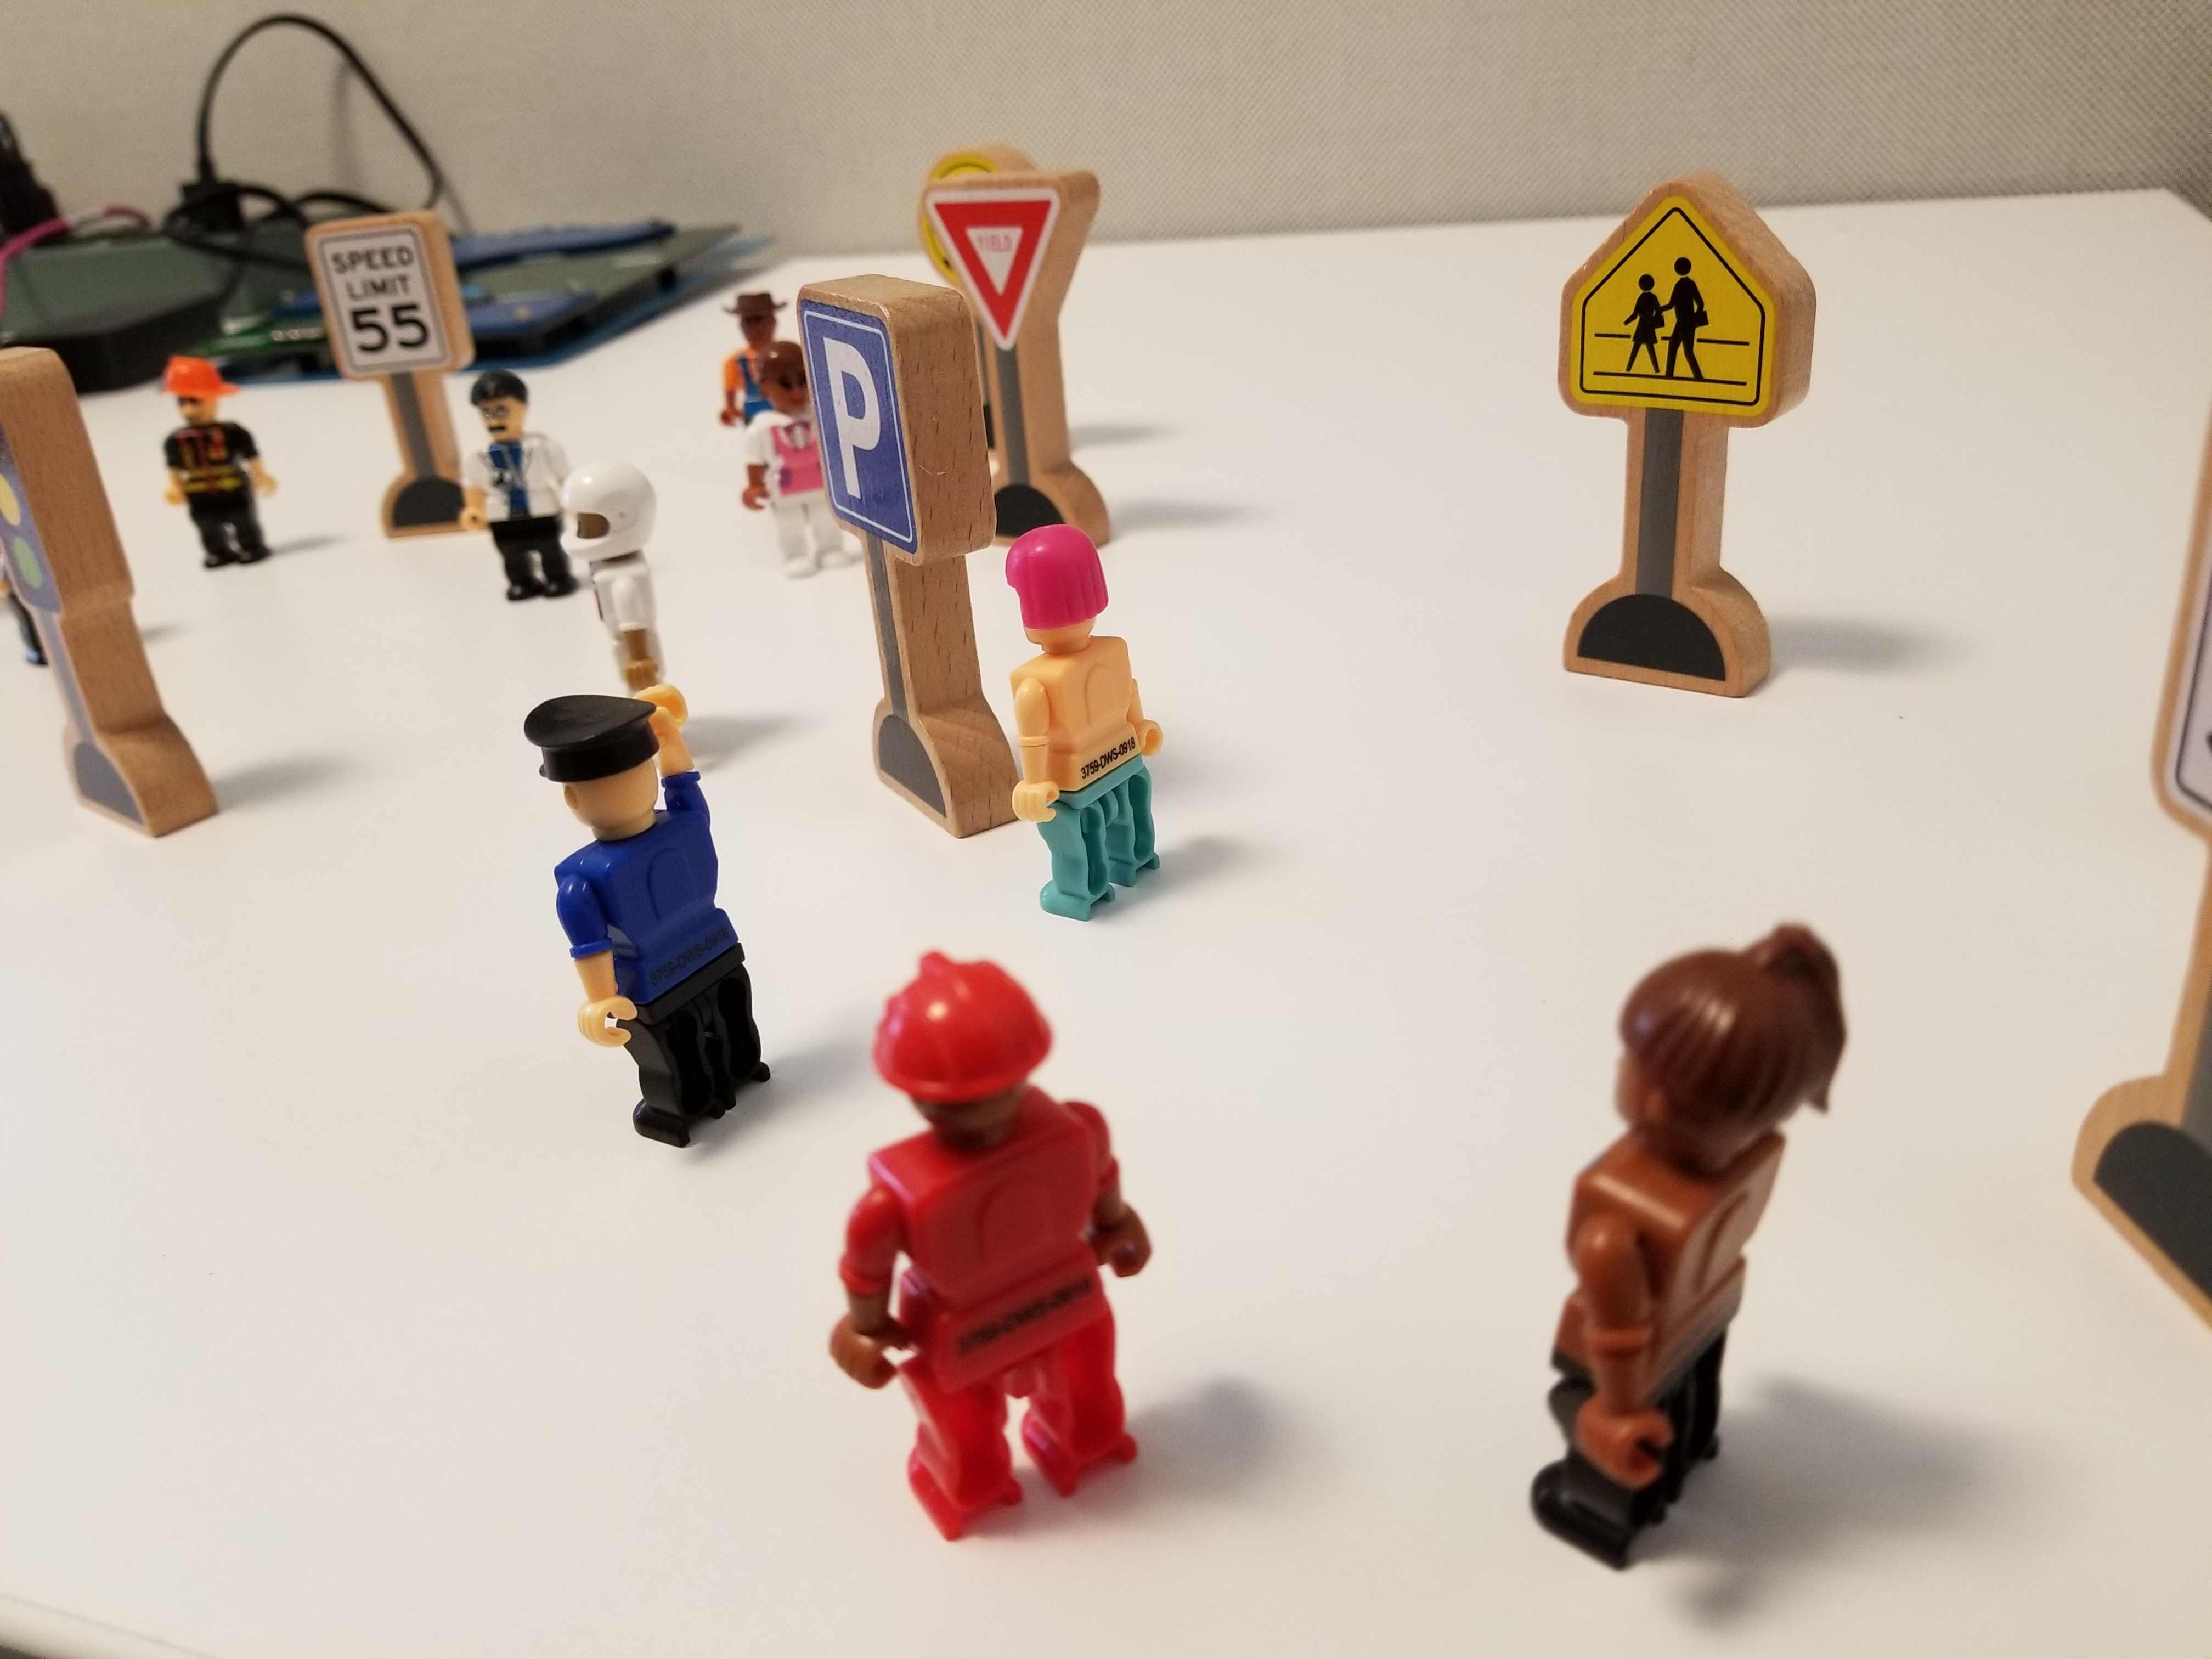Parking: (782, 269, 997, 594)
Pedestrian crossing: (1548, 157, 1849, 730)
Speed limit 55: (297, 218, 477, 523)
Yield: (923, 153, 1107, 370)
person: (1489, 879, 1844, 1594), (804, 932, 1177, 1526), (484, 670, 787, 1151), (960, 510, 1193, 945), (115, 332, 291, 572), (703, 284, 837, 583), (438, 365, 569, 605), (554, 460, 688, 666)
